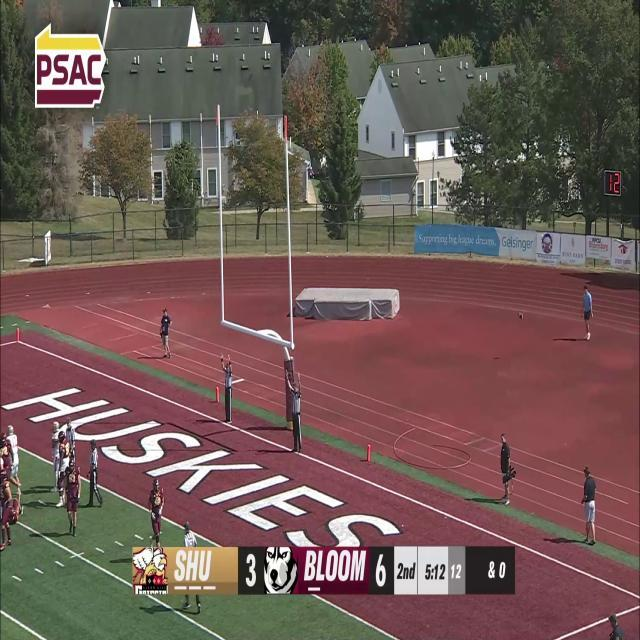football: (518, 312, 524, 320)
